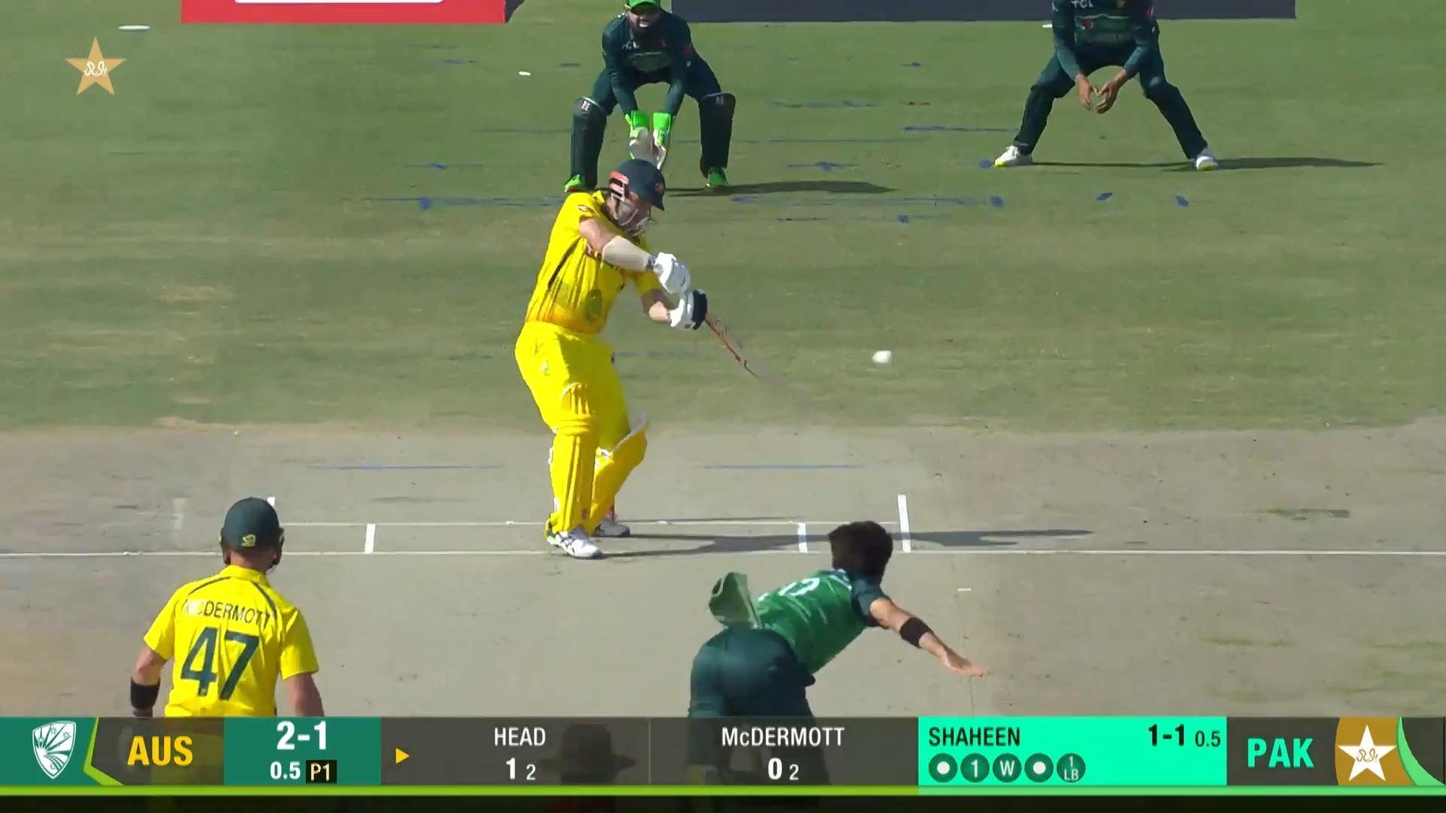BM 1: (514, 160, 767, 559)
BO: (677, 517, 994, 813)
